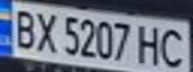0: (93, 17, 115, 61)
2: (75, 16, 96, 60)
5: (57, 12, 81, 57)
7: (112, 19, 136, 63)
B: (9, 6, 39, 51)
C: (157, 25, 190, 70)
H: (133, 23, 166, 66)
X: (30, 8, 60, 53)
